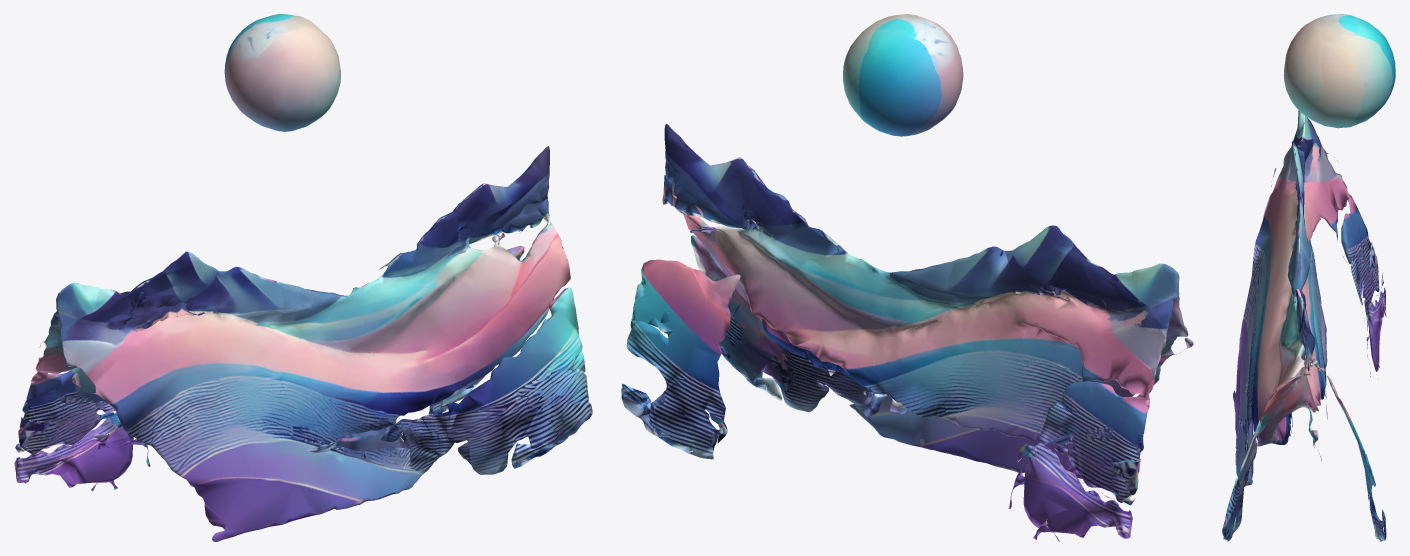
Rendered from inherited-shadows.glb.
3 renders of one model, left to right at view 1: azimuth 30°, elevation 25°; view 2: azimuth 150°, elevation 25°; view 3: azimuth 270°, elevation 25°, orthographic. The views are drawn at different scales.
Visible parts, largest first — view 1: mesh; view 2: mesh; view 3: mesh.
Part boxes in pixels (left/top/right/bottom): mesh: left=14, top=14, right=592, bottom=541; mesh: left=621, top=14, right=1193, bottom=541; mesh: left=1222, top=14, right=1395, bottom=541.
Size of the model in its own units: 1.58 by 1.38 by 0.4977.
1 material, 1 textured.
